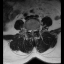CCS_normal: (31, 27, 33, 36)
LFS_normal: (35, 27, 37, 32)
LLS_normal: (33, 27, 35, 34)
RFS_normal: (27, 26, 29, 33)
RLS_normal: (29, 27, 31, 34)
